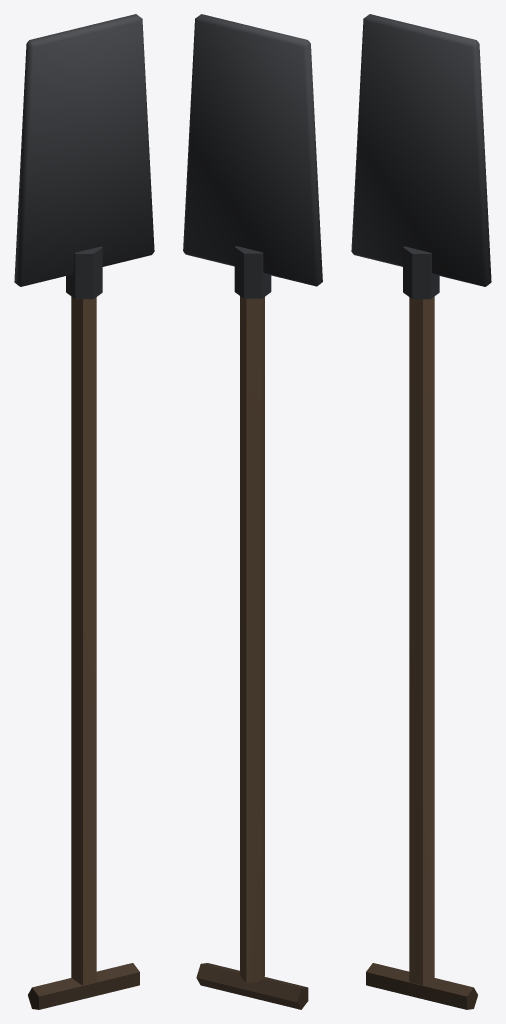
File: ph_tool_spade_robber.glb
The picture shows the model from 3 angles, left to right: view 1: azimuth 30°, elevation 25°; view 2: azimuth 150°, elevation 25°; view 3: azimuth 330°, elevation 25°; orthographic projection.
Parts seen in each view (by area): view 1: ph_tool_spade_robber; view 2: ph_tool_spade_robber; view 3: ph_tool_spade_robber.
Boxes of the visible parts, x1,y1,x2,y2 form: ph_tool_spade_robber: (14,14,154,1009); ph_tool_spade_robber: (183,14,322,1009); ph_tool_spade_robber: (351,14,491,1009).
Size of the model in its own units: 0.1896 by 1.28 by 0.044.
